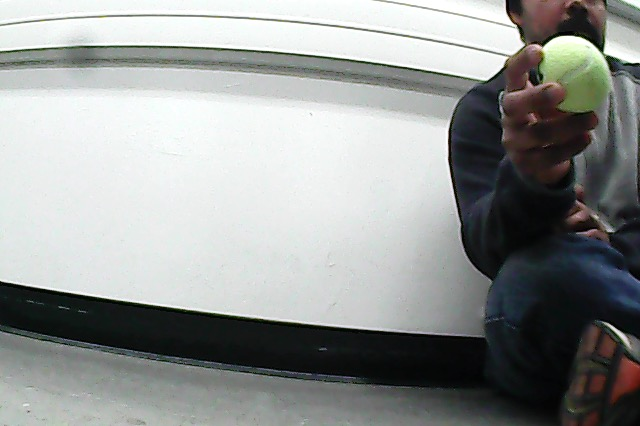ball: (532, 33, 615, 118)
